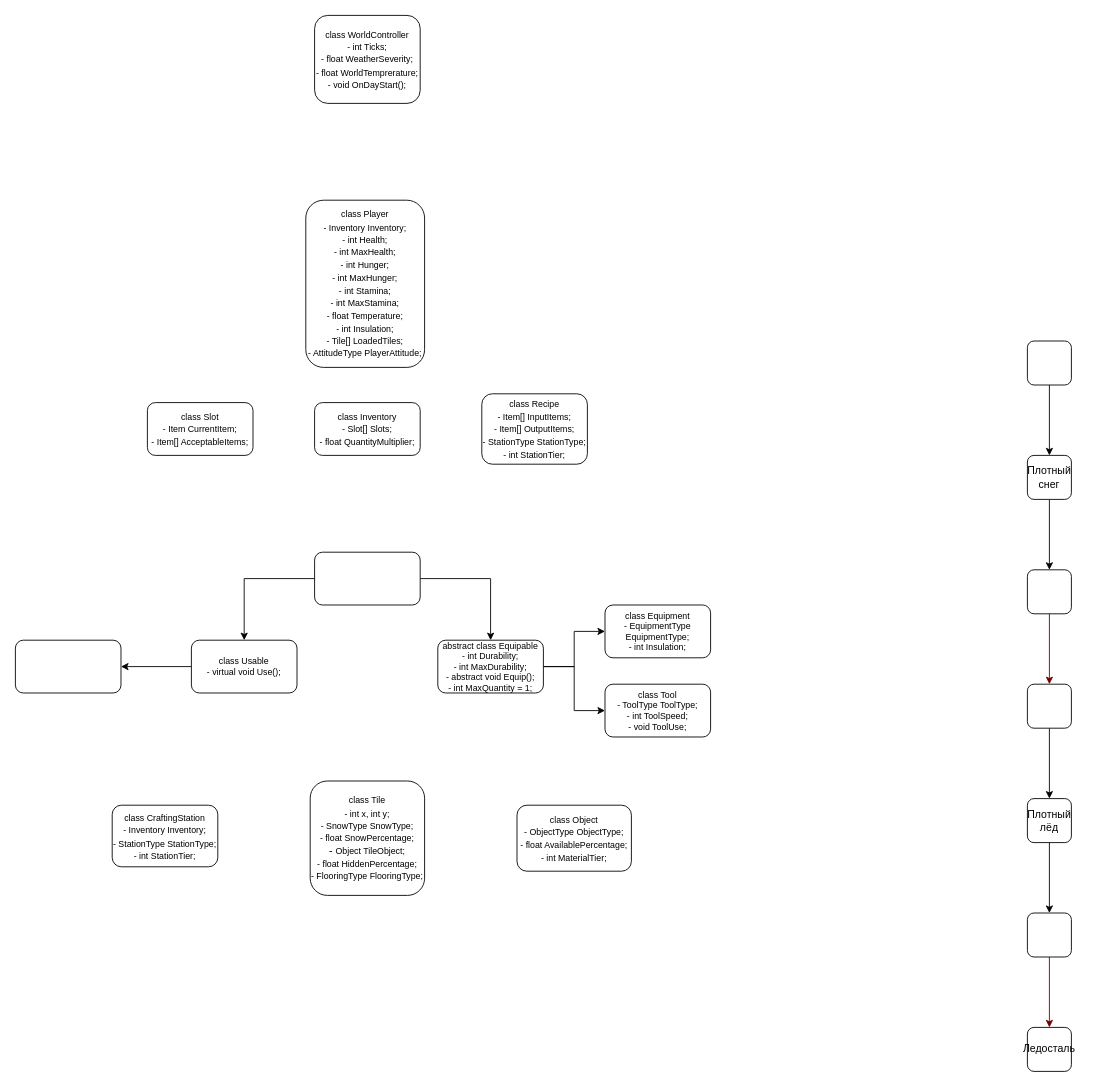
Image size: 1110x1087. Some labels were removed from this diagram. The shapes that lost their labels are listed below. From the top down, each one's centre as x and y in pixels, then its label:
At pixel 1049 362: "Снег".
At pixel 367 578: "class Item - int Quantity; - int MaxQuantity; - int ID;".
At pixel 1049 591: "Компрессованный снег".
At pixel 68 666: "class Consumable - override void Use();".
At pixel 1049 705: "Лёд".
At pixel 1049 934: "Синий лёд".
